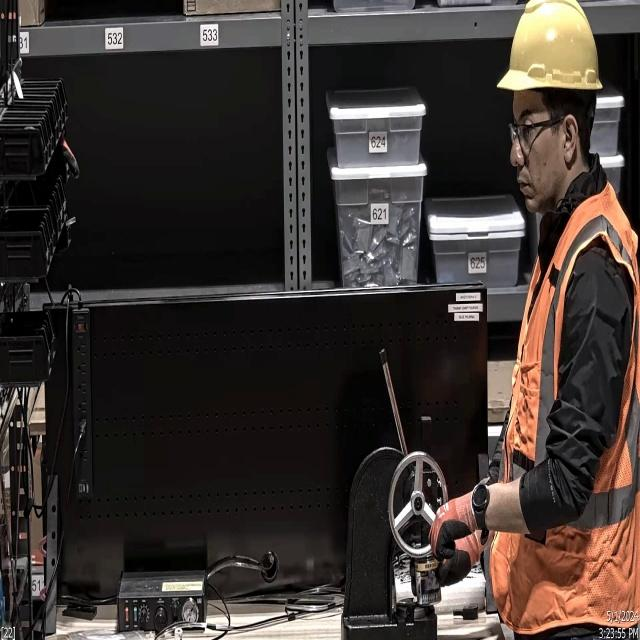gloves: (428, 488, 482, 561)
